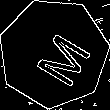M_NW: (20, 21, 87, 86)
